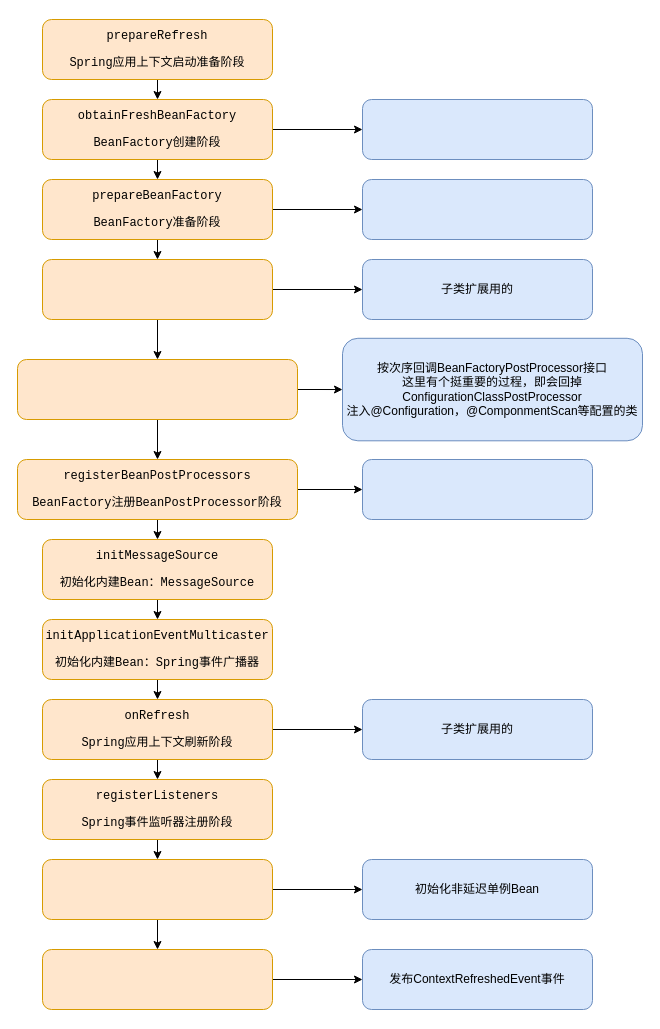
The diagram is 660 pixels wide and 1029 high, and some of its shapes have lost their labels. The centre of each missing label's shape, as x and y in pixels:
finishBeanFactoryInitialization BeanFactory初始化完成阶段: the point at 157,889
finishRefresh Spring应用上下文启动完成阶段: the point at 157,979
invokeBeanFactoryPostProcessors BeanFactory后置处理阶段: the point at 157,389
postProcessBeanFactory BeanFactory后置处理阶段: the point at 157,289
创建DefaultListableBeanFactory: the point at 477,129
按次序 注册 BeanPostProcessor: the point at 477,489
注册属性编辑器 BeanPostProcessor等: the point at 477,209
